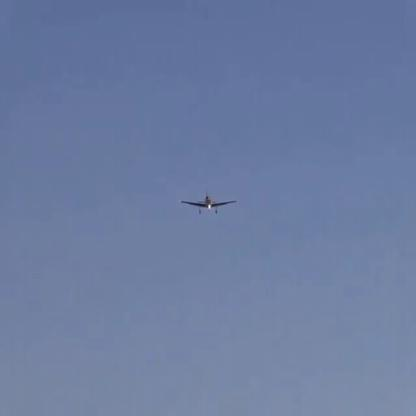CIV_Plane: (180, 190, 238, 214)
